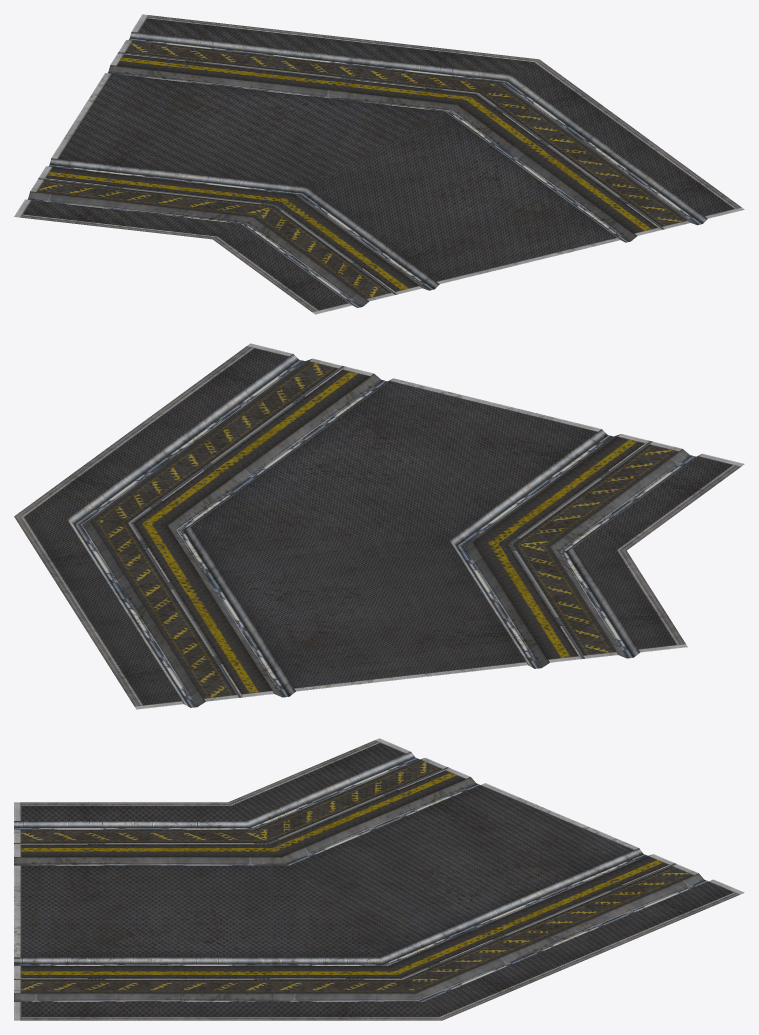
Rendered from Floor_C_5mts_07.fbx.
The picture shows the model from 3 angles, top to bottom: view 1: azimuth 30°, elevation 25°; view 2: azimuth 150°, elevation 25°; view 3: azimuth 270°, elevation 25°; orthographic projection. The views are drawn at different scales.
Parts seen in each view (by area): view 1: Floor_C_5mts_07; view 2: Floor_C_5mts_07; view 3: Floor_C_5mts_07.
Boxes of the visible parts, <box> form: Floor_C_5mts_07: <box>14,14,744,314</box>; Floor_C_5mts_07: <box>14,343,744,709</box>; Floor_C_5mts_07: <box>14,738,744,1020</box>.
Size of the model in its own units: 646 by 4.33 by 707.
Materials: 1 (1 with a texture image).
